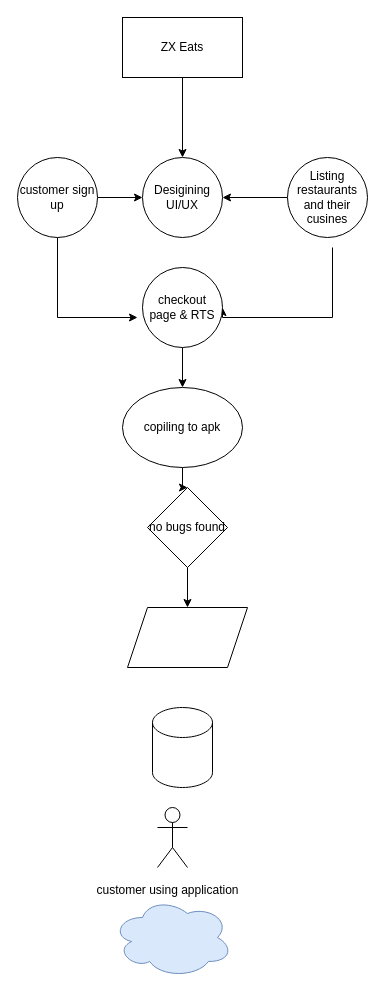
Image size: 385x995. Some labels were removed from this diagram. The box of each missing label's shape, as (x1, y1, x2, y2) in pixels:
Actor: (156, 806, 188, 868)
pushed to appstore: (152, 706, 212, 788)
recieved no feedback: (112, 896, 232, 978)
writing permission for deployment: (126, 606, 248, 668)
